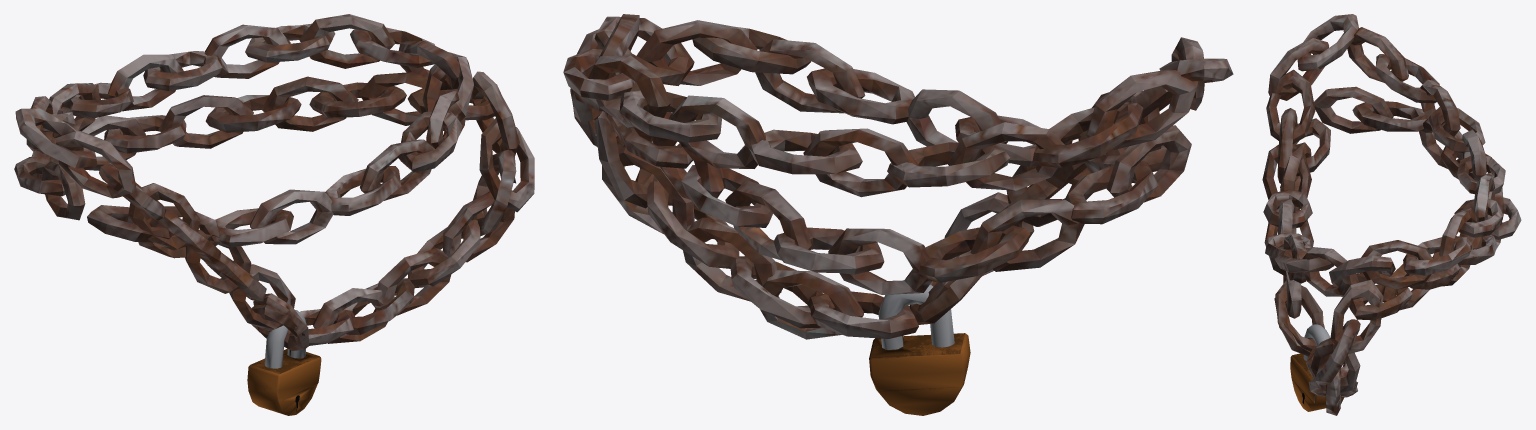
Rendered from chain.fbx.
The picture shows the model from 3 angles, left to right: view 1: azimuth 30°, elevation 25°; view 2: azimuth 150°, elevation 25°; view 3: azimuth 270°, elevation 25°; orthographic projection. The views are drawn at different scales.
Visible parts, largest first — view 1: defaultMaterial, defaultMaterial.001; view 2: defaultMaterial, defaultMaterial.001; view 3: defaultMaterial, defaultMaterial.001.
Part boxes in pixels (x1,y1,x2,y2): defaultMaterial: [14, 14, 534, 350]; defaultMaterial.001: [247, 310, 321, 415]; defaultMaterial: [563, 14, 1233, 339]; defaultMaterial.001: [869, 284, 970, 415]; defaultMaterial: [1262, 14, 1521, 415]; defaultMaterial.001: [1290, 324, 1344, 411].
Bounding box in the file's own units: 48.1 × 30.91 × 24.79.
1 material, 1 textured.
